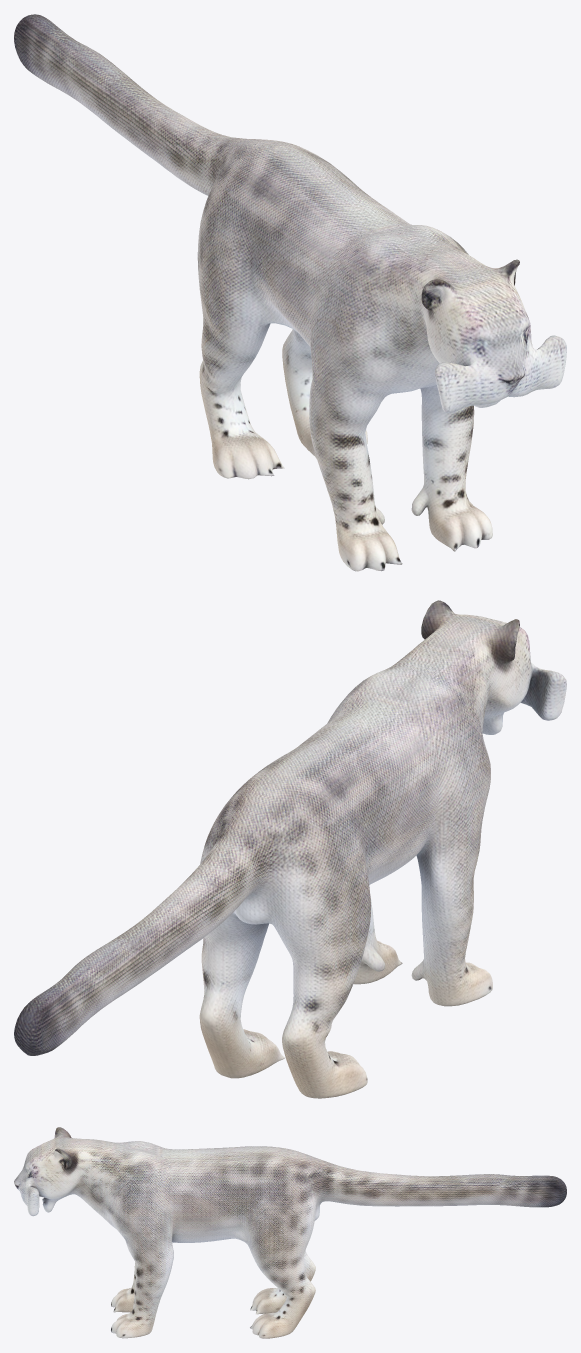
The model's file is 01-glb.glb.
The picture shows the model from 3 angles, top to bottom: view 1: azimuth 30°, elevation 25°; view 2: azimuth 150°, elevation 25°; view 3: azimuth 270°, elevation 25°; orthographic projection. The views are drawn at different scales.
Parts seen in each view (by area): view 1: Mesh; view 2: Mesh; view 3: Mesh.
Boxes of the visible parts, left/top/right/bottom form: Mesh: left=14, top=14, right=566, bottom=571; Mesh: left=14, top=600, right=566, bottom=1098; Mesh: left=14, top=1127, right=566, bottom=1338.
Bounding box in the file's own units: 0.3543 × 0.6888 × 1.9.
1 material, 1 textured.
